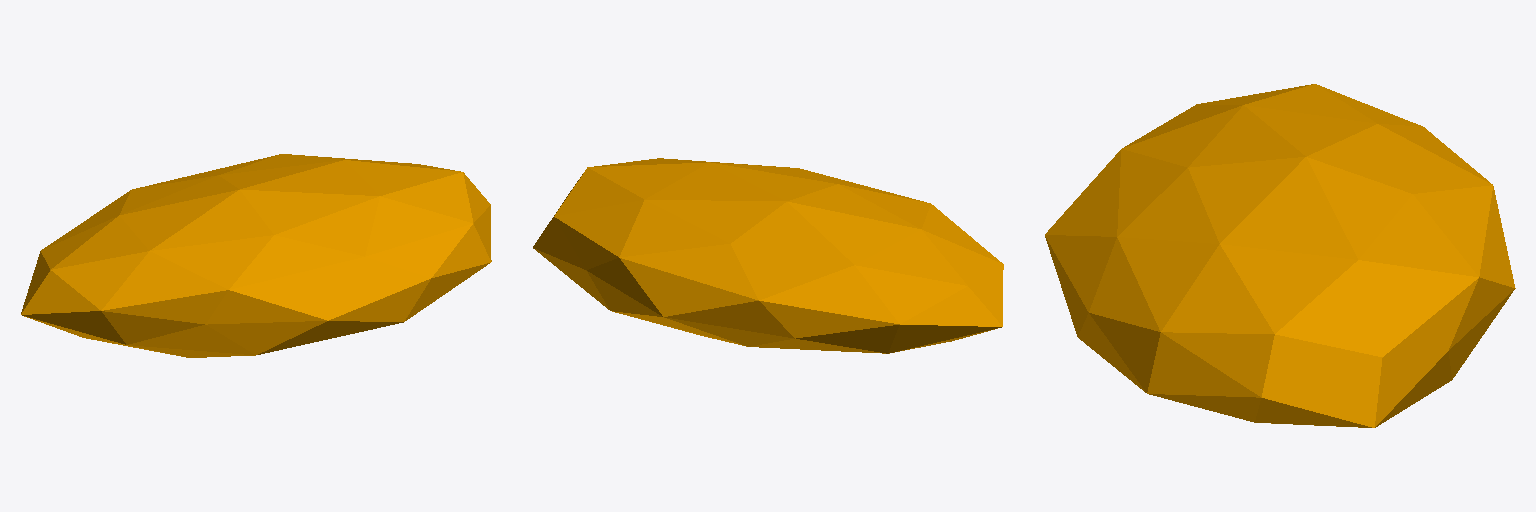
URDF robot description (train0488):
<?xml version="1.0"?>
<robot name="train0488">
  <link name="link">
    <contact>
      <lateral_friction value="0.6"/>
    </contact>
    <inertial>
      <mass value = "0.2567161692259211"/>
      <inertia ixx="7.294690002217546e-05" ixy="-7.767997987111312e-21" ixz="1.5050496100028166e-20" iyy="0.00016642615790182097" iyz="5.3769111067036113e-20" izz="0.00021720499338303209" />
    </inertial>
    <visual name="visual">
      <geometry>
        <mesh filename="train0488.obj"/>
      </geometry>
    </visual>
    <collision name="collision">
      <geometry>
        <mesh filename="train0488.obj"/>
      </geometry>
    </collision>
  </link>
</robot>

--- Facts derived from the render (not from the file) ---
The picture shows the robot from 3 angles, left to right: view 1: azimuth 30°, elevation 25°; view 2: azimuth 150°, elevation 25°; view 3: azimuth 270°, elevation 25°; orthographic projection.
Robot: train0488 — 1 links, 0 joints (none); root link link; default pose: all joints at 0.
Links seen in each view (by area): view 1: link; view 2: link; view 3: link.
Link boxes in pixels (x1,y1,x2,y2): link: (21,154,491,357); link: (533,158,1003,353); link: (1045,84,1515,427).
Bounding box of the posed robot: 0.1154 × 0.0756 × 0.0308 m (x, y, z).
Meshes: 1 distinct files referenced, 1 mesh visuals loaded (1 OBJ).
